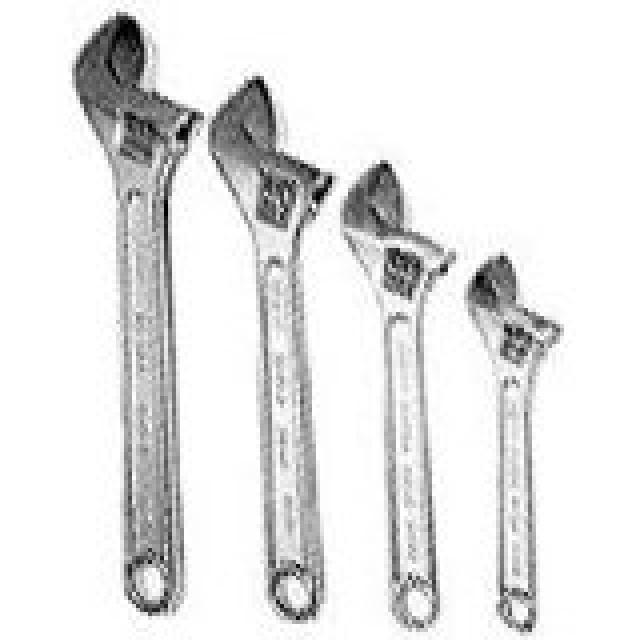wrench: (67, 11, 209, 622), (200, 72, 340, 628), (332, 153, 462, 632), (460, 246, 570, 634)
